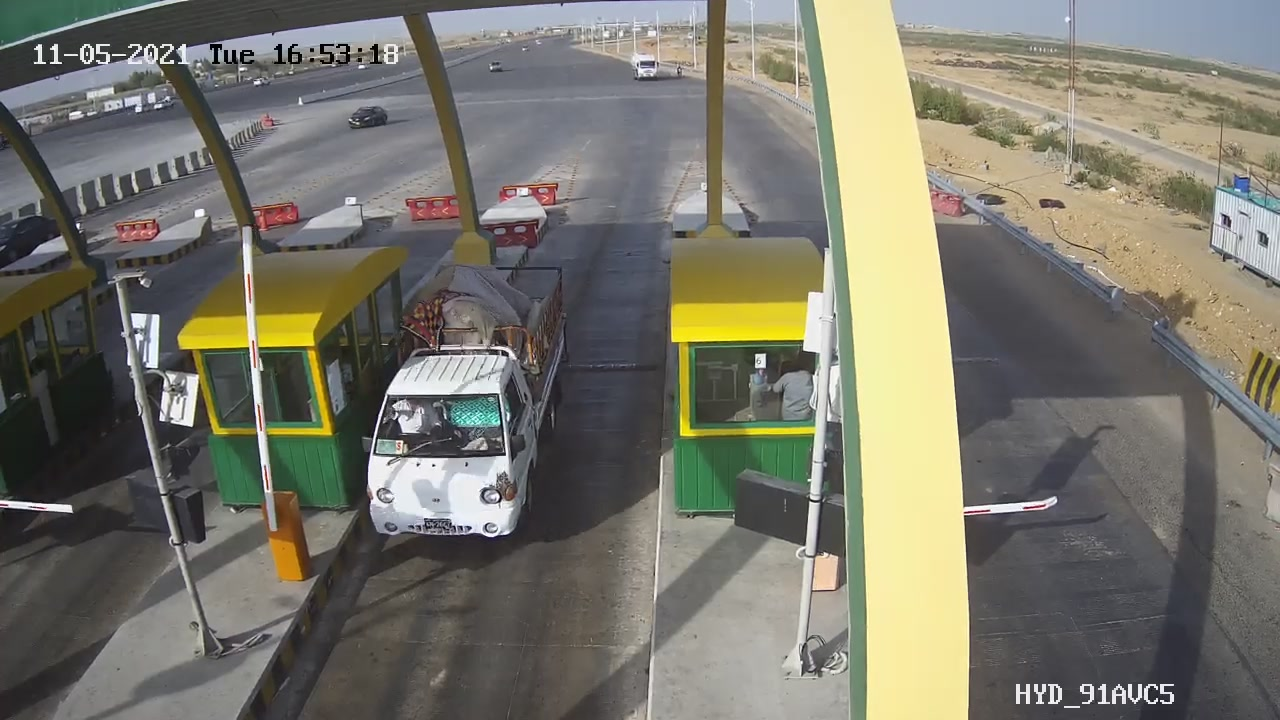F2: (346, 241, 587, 560)
